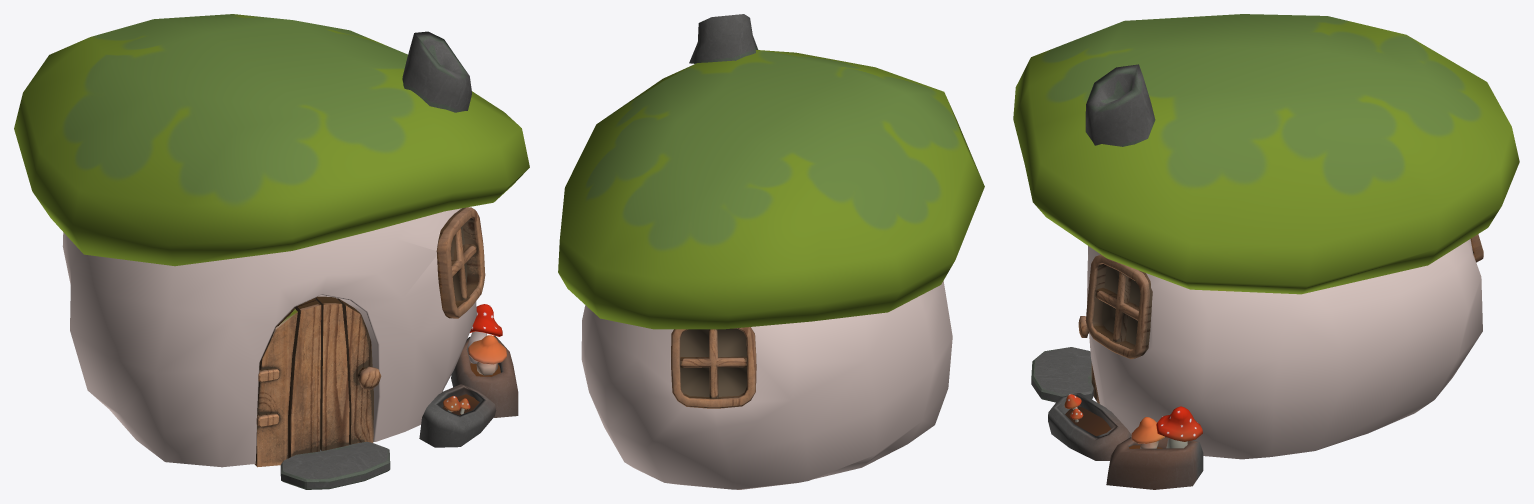
3 renders of one model, left to right at view 1: azimuth 30°, elevation 25°; view 2: azimuth 150°, elevation 25°; view 3: azimuth 270°, elevation 25°, orthographic. The views are drawn at different scales.
Parts seen in each view (by area): view 1: roof, body, door, flowerpot, front windows, chimney, stone, mushroom; view 2: roof, body, rear windows, chimney; view 3: roof, body, flowerpot, front windows, chimney, stone, mushroom, mud.
Part boxes in pixels (bbox=[...]): roof: bbox=[14, 14, 529, 266]; body: bbox=[62, 208, 476, 467]; door: bbox=[254, 296, 381, 467]; flowerpot: bbox=[419, 335, 518, 447]; front windows: bbox=[436, 207, 485, 318]; chimney: bbox=[402, 31, 471, 112]; stone: bbox=[280, 441, 390, 489]; mushroom: bbox=[443, 304, 506, 414]; roof: bbox=[558, 50, 984, 329]; body: bbox=[581, 281, 952, 489]; rear windows: bbox=[671, 327, 756, 408]; chimney: bbox=[689, 14, 758, 63]; roof: bbox=[1013, 14, 1519, 294]; body: bbox=[1087, 239, 1482, 459]; flowerpot: bbox=[1048, 393, 1203, 489]; front windows: bbox=[1085, 254, 1152, 359]; chimney: bbox=[1085, 64, 1155, 146]; stone: bbox=[1031, 347, 1093, 402]; mushroom: bbox=[1064, 394, 1202, 448]; mud: bbox=[1065, 406, 1162, 448].
Size of the model in its own units: 0.858 by 0.7751 by 0.9377.
Materials: 10 (10 with a texture image).
